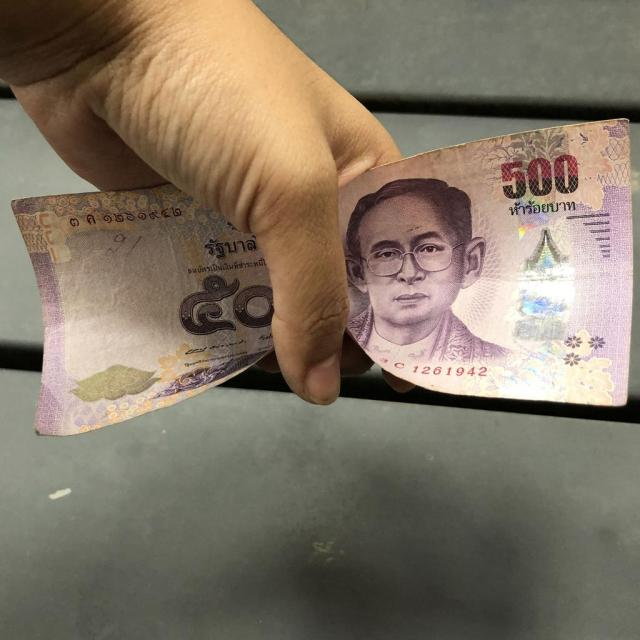THAI500: (339, 119, 632, 406), (11, 185, 273, 436)
